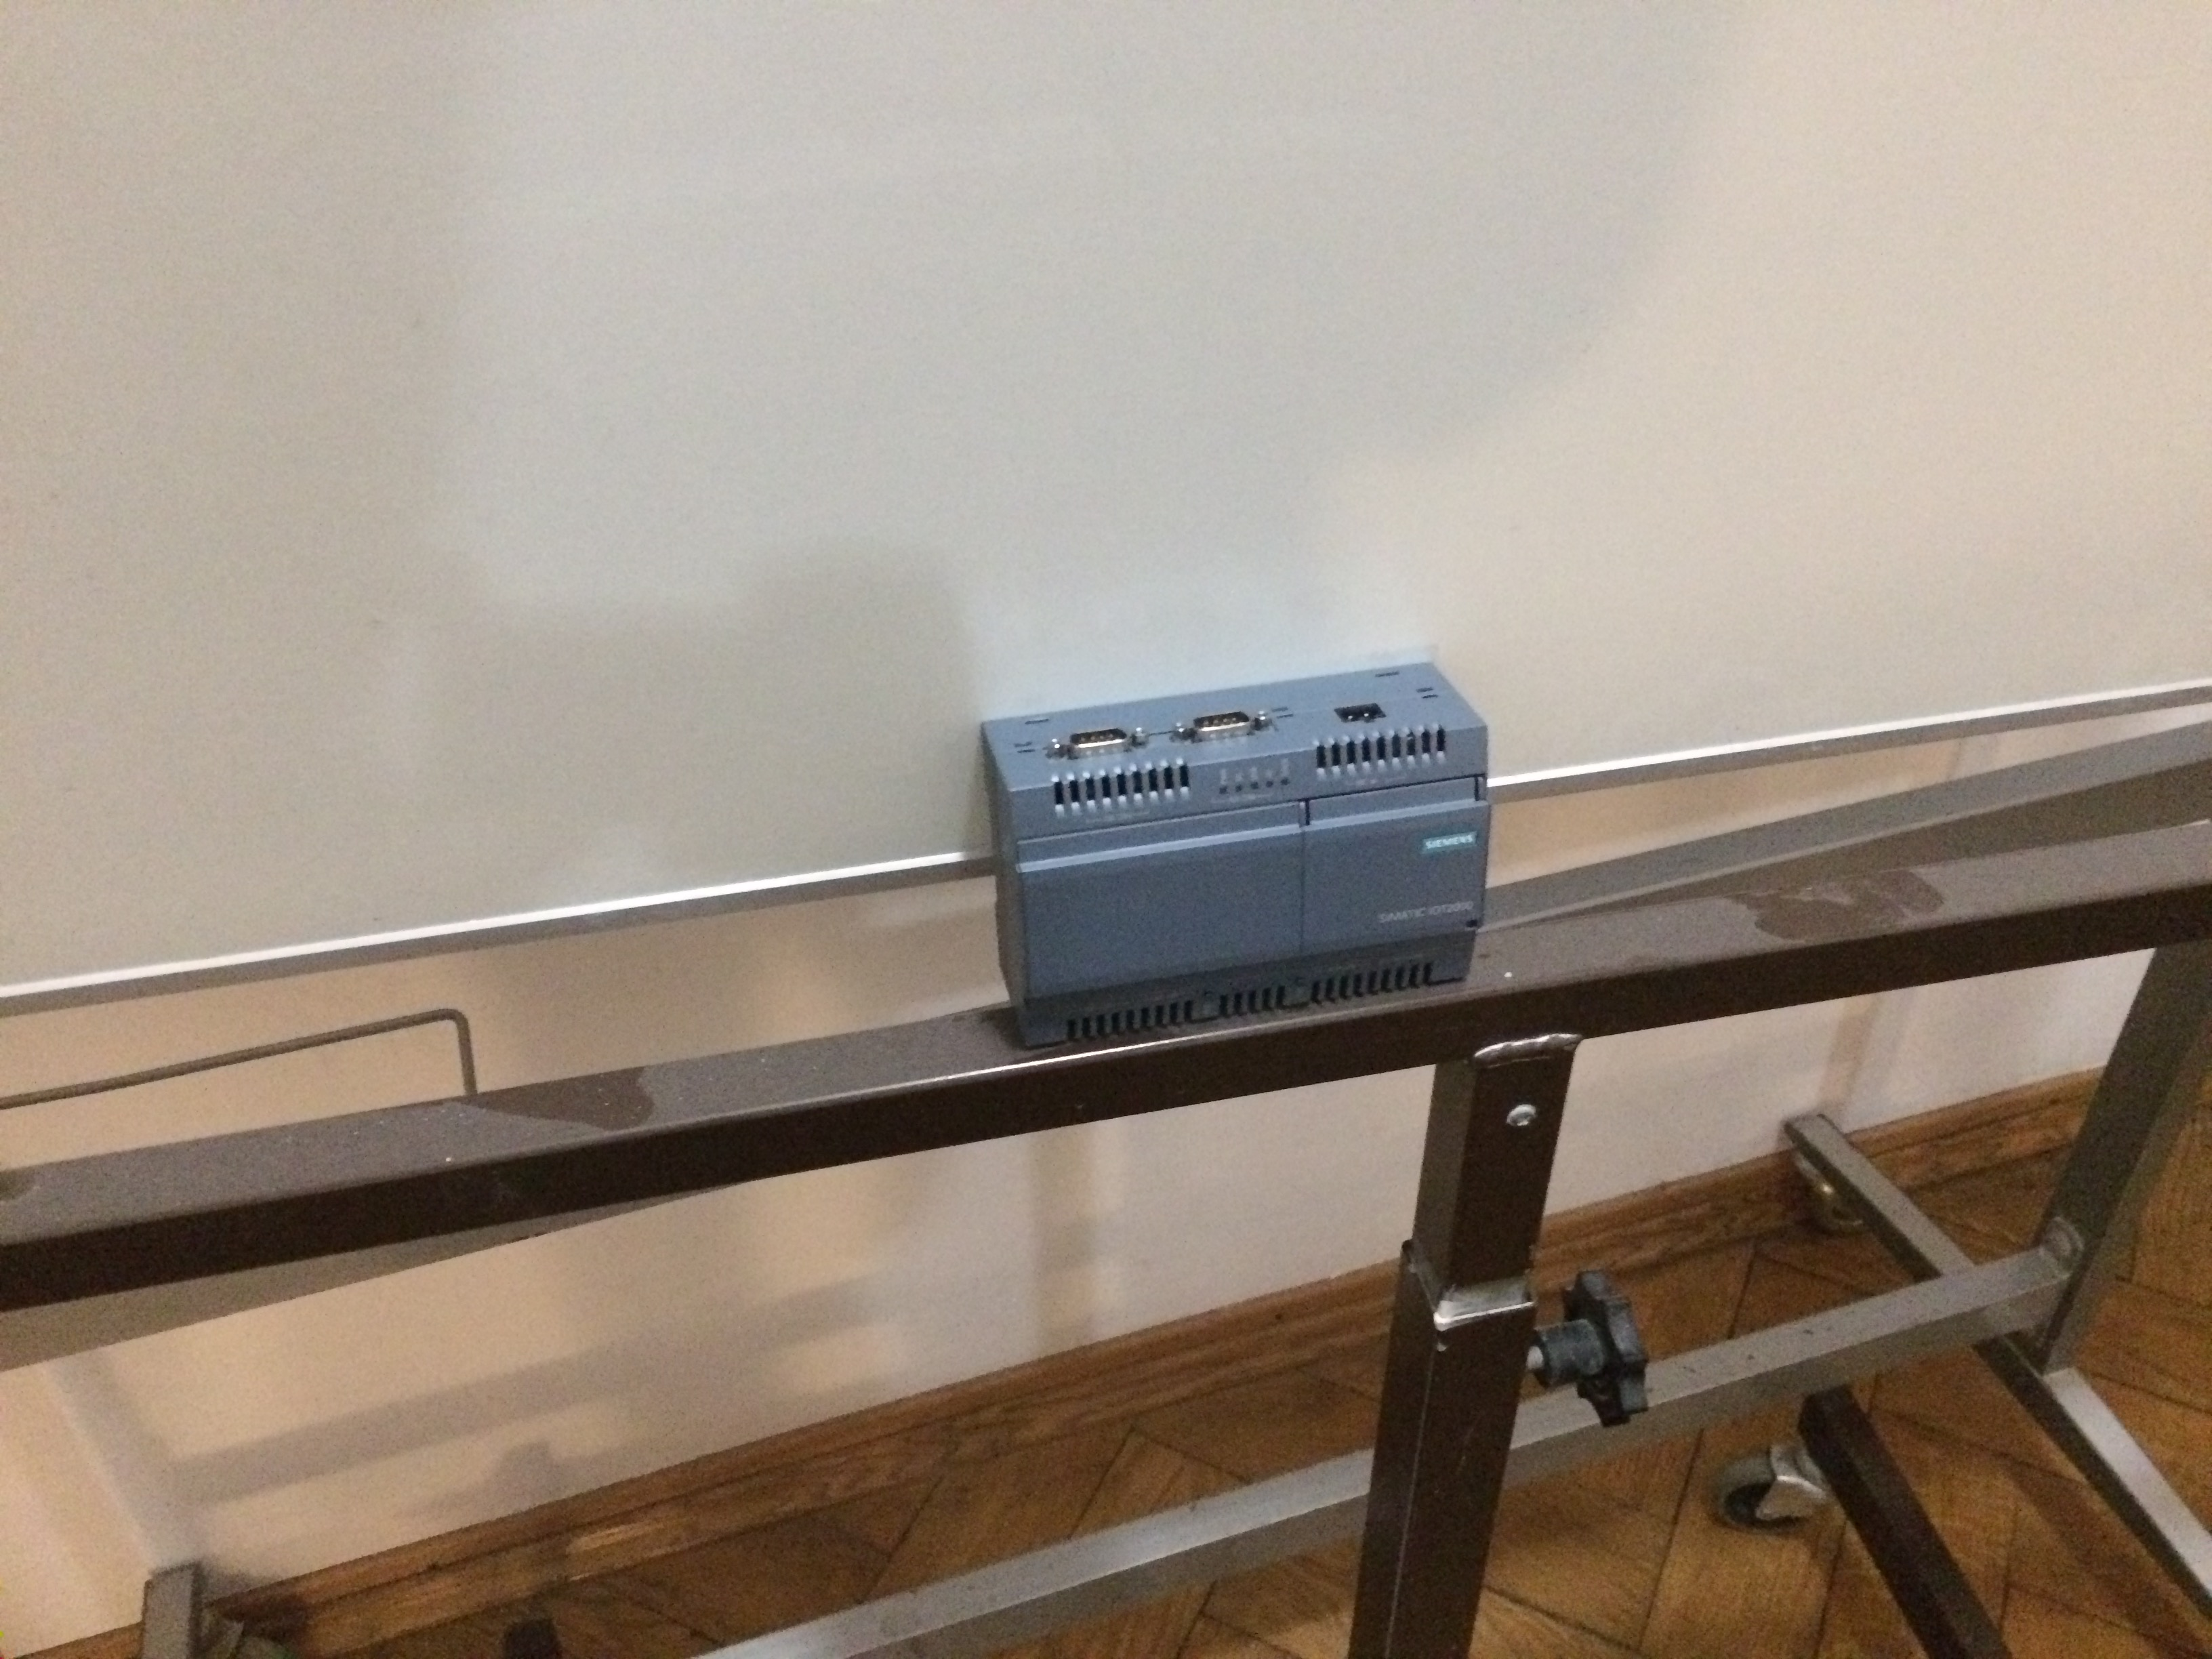iot2000: (974, 655, 1491, 1051)
